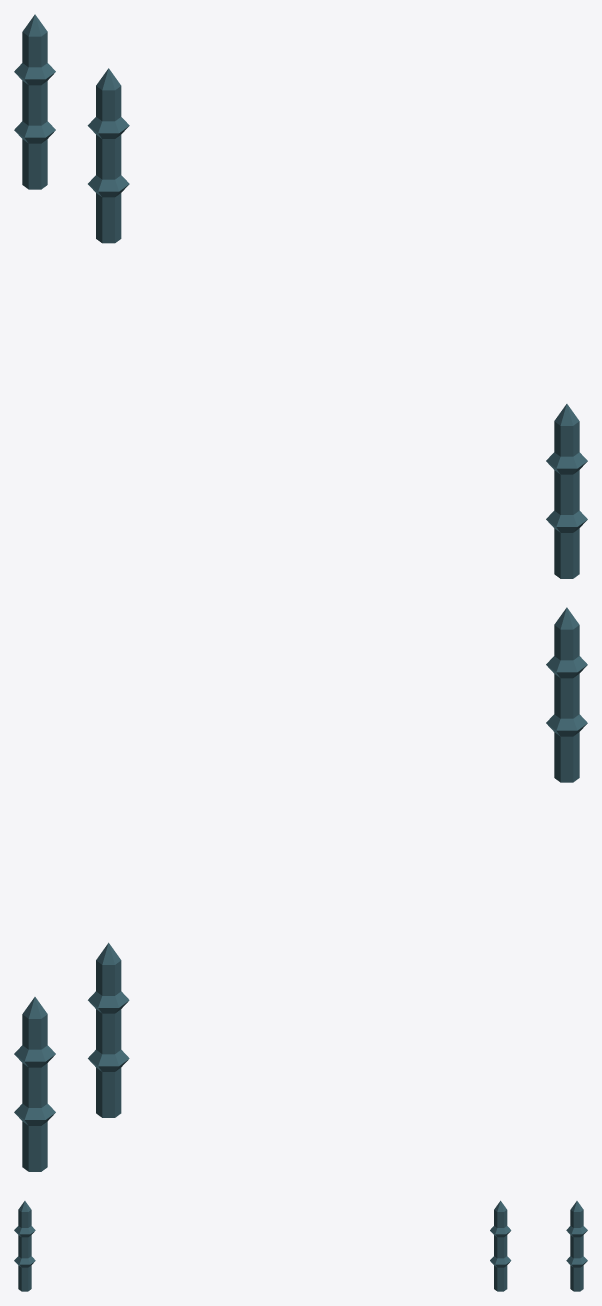
The picture shows the model from 3 angles, top to bottom: view 1: azimuth 30°, elevation 25°; view 2: azimuth 150°, elevation 25°; view 3: azimuth 270°, elevation 25°; orthographic projection. The views are drawn at different scales.
Parts seen in each view (by area): view 1: Cylinder1620_metal_0, Cylinder1621_metal_0, Cylinder1540_metal_0; view 2: Cylinder1540_metal_0, Cylinder1620_metal_0, Cylinder1621_metal_0; view 3: Cylinder1620_metal_0, Cylinder1540_metal_0, Cylinder1621_metal_0.
Boxes of the visible parts, left/top/right/bottom form: Cylinder1620_metal_0: left=87, top=68, right=129, bottom=243; Cylinder1621_metal_0: left=14, top=14, right=55, bottom=189; Cylinder1540_metal_0: left=546, top=404, right=587, bottom=578; Cylinder1540_metal_0: left=546, top=607, right=587, bottom=782; Cylinder1620_metal_0: left=88, top=942, right=129, bottom=1117; Cylinder1621_metal_0: left=14, top=997, right=55, bottom=1171; Cylinder1620_metal_0: left=490, top=1200, right=511, bottom=1291; Cylinder1540_metal_0: left=14, top=1201, right=35, bottom=1291; Cylinder1621_metal_0: left=566, top=1201, right=587, bottom=1291.
Size of the model in its own units: 16.13 by 83.3 by 489.
